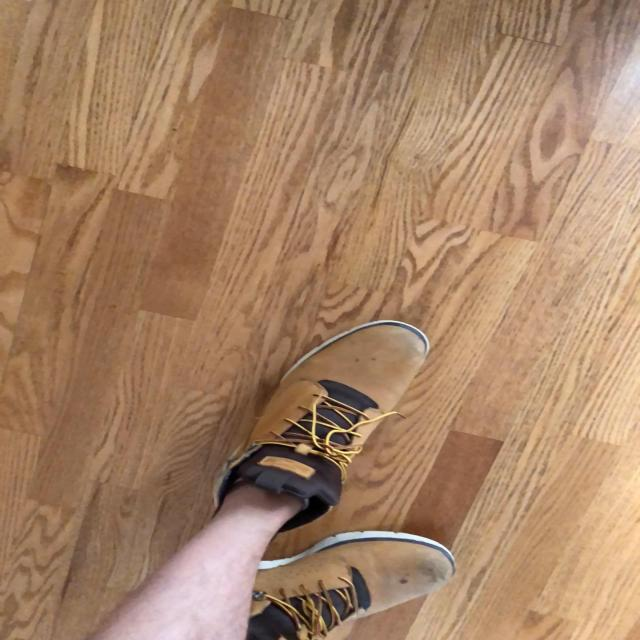shoe: (214, 321, 431, 533), (252, 531, 458, 640)
